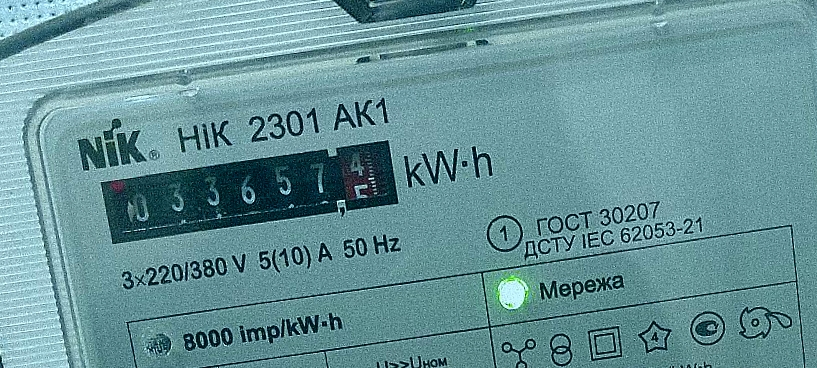0: (128, 186, 154, 226)
3: (165, 178, 188, 215), (200, 172, 223, 209)
4: (345, 147, 368, 179)
5: (270, 160, 296, 199)
6: (234, 170, 259, 207)
7: (306, 157, 329, 196)
screen: (87, 130, 408, 254)
